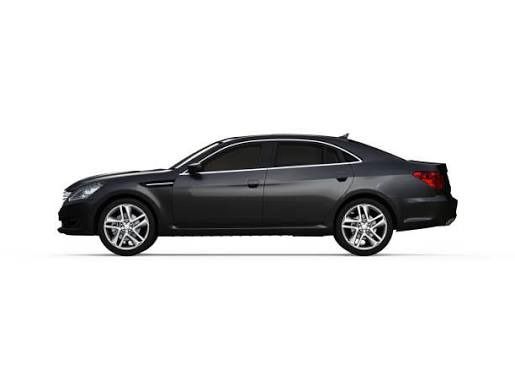car: (76, 136, 451, 250)
